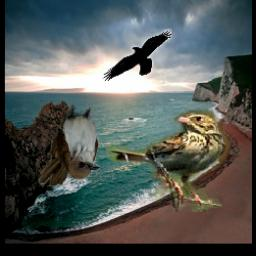Crow: (103, 30, 173, 82)
Cuckoo: (39, 102, 101, 187)
Sparrow: (106, 112, 233, 213)
